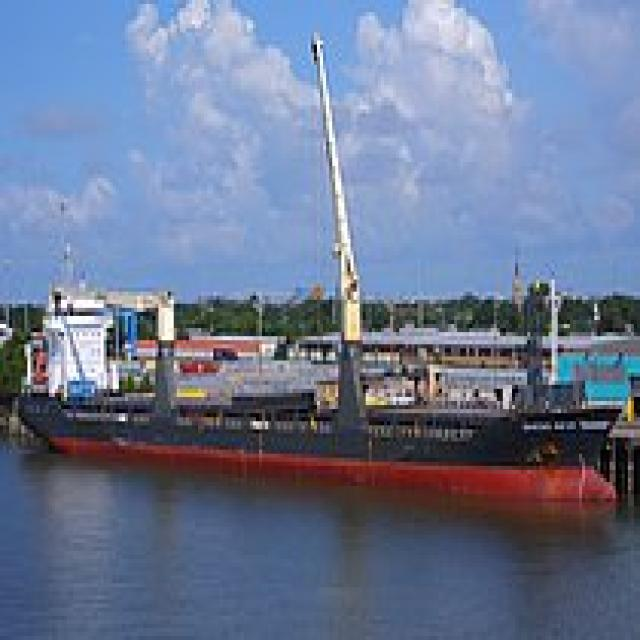Cargo: (9, 25, 622, 502)
